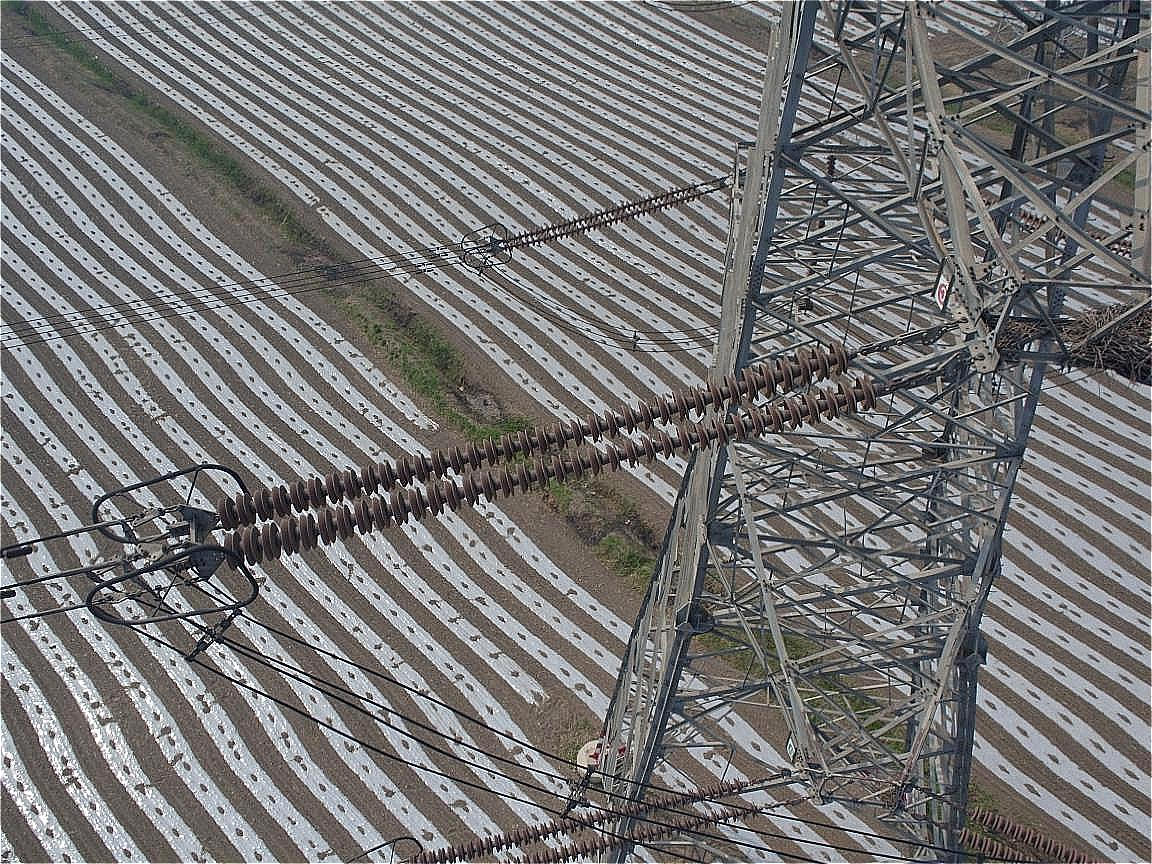insultor1: (499, 163, 724, 262)
insultor2: (219, 338, 884, 578), (371, 764, 756, 862)
